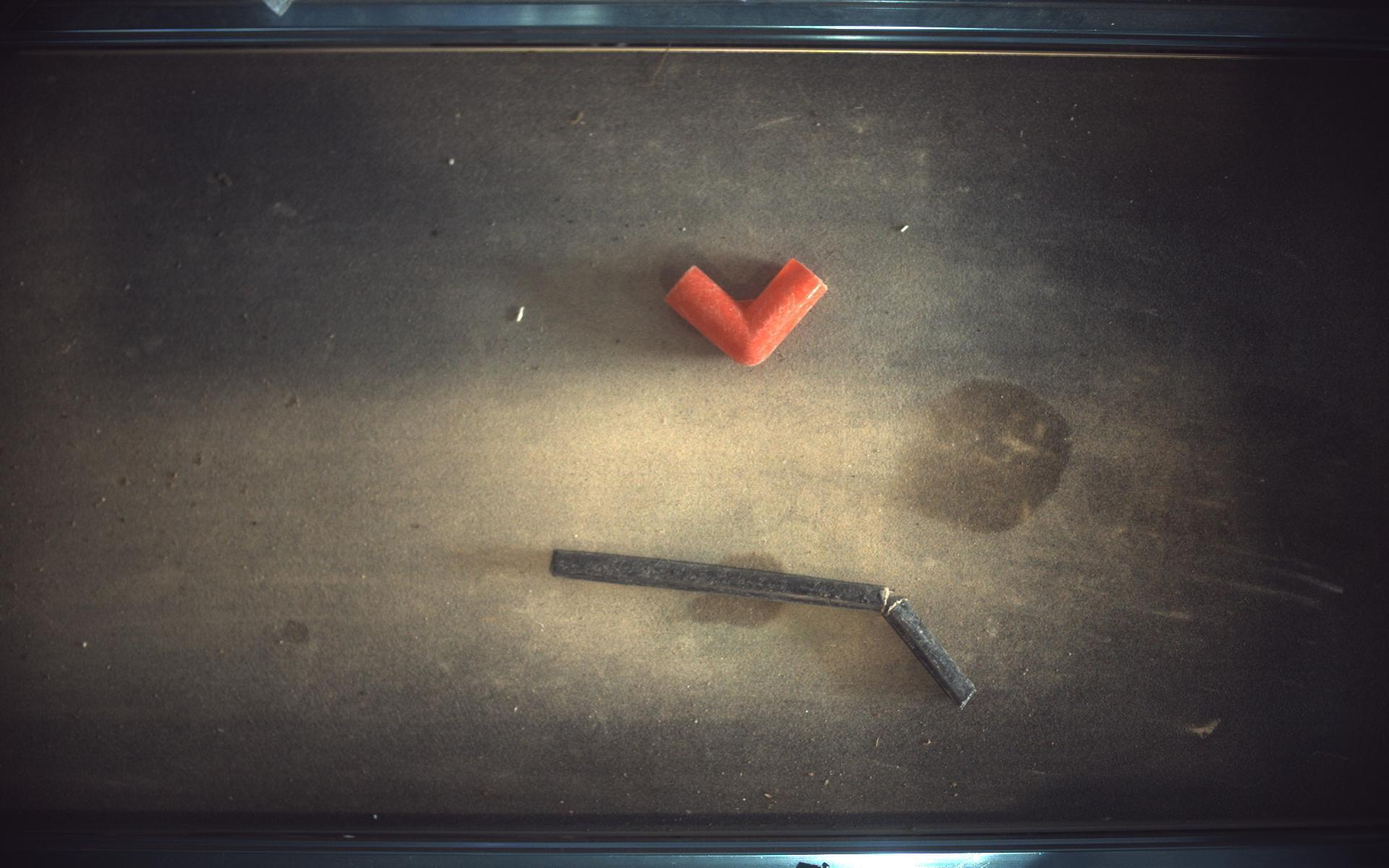pipes: (551, 550, 977, 708), (666, 258, 828, 366)
